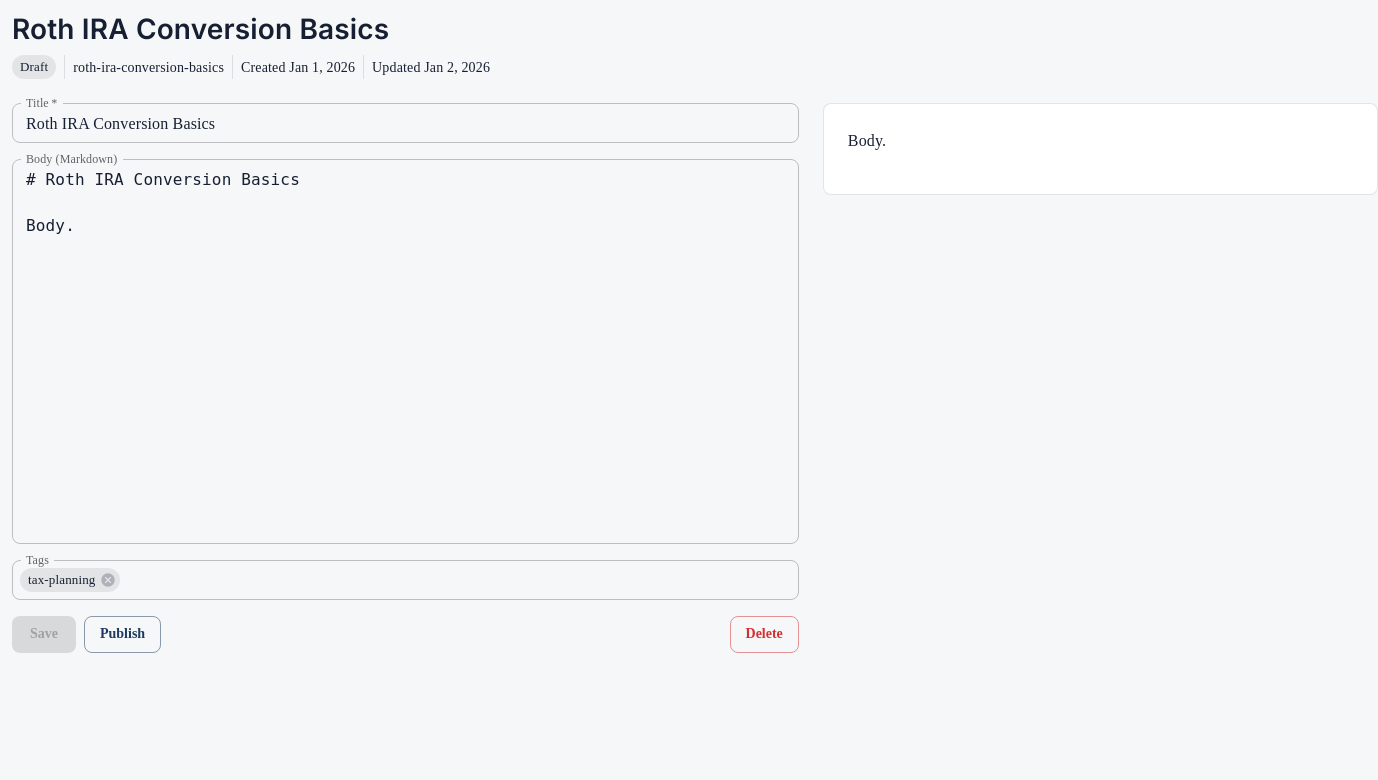
Test case: ContentEditorScreen mutation feedback (global snackbar) › a successful Publish shows a "Published" notice (and not a "Saved" one)
The image size is (1378, 780).
What coordinates should you click on to do the following:
click the button "Publish"
I would click on:
 (123, 634)
Its box is [84,616,161,652].
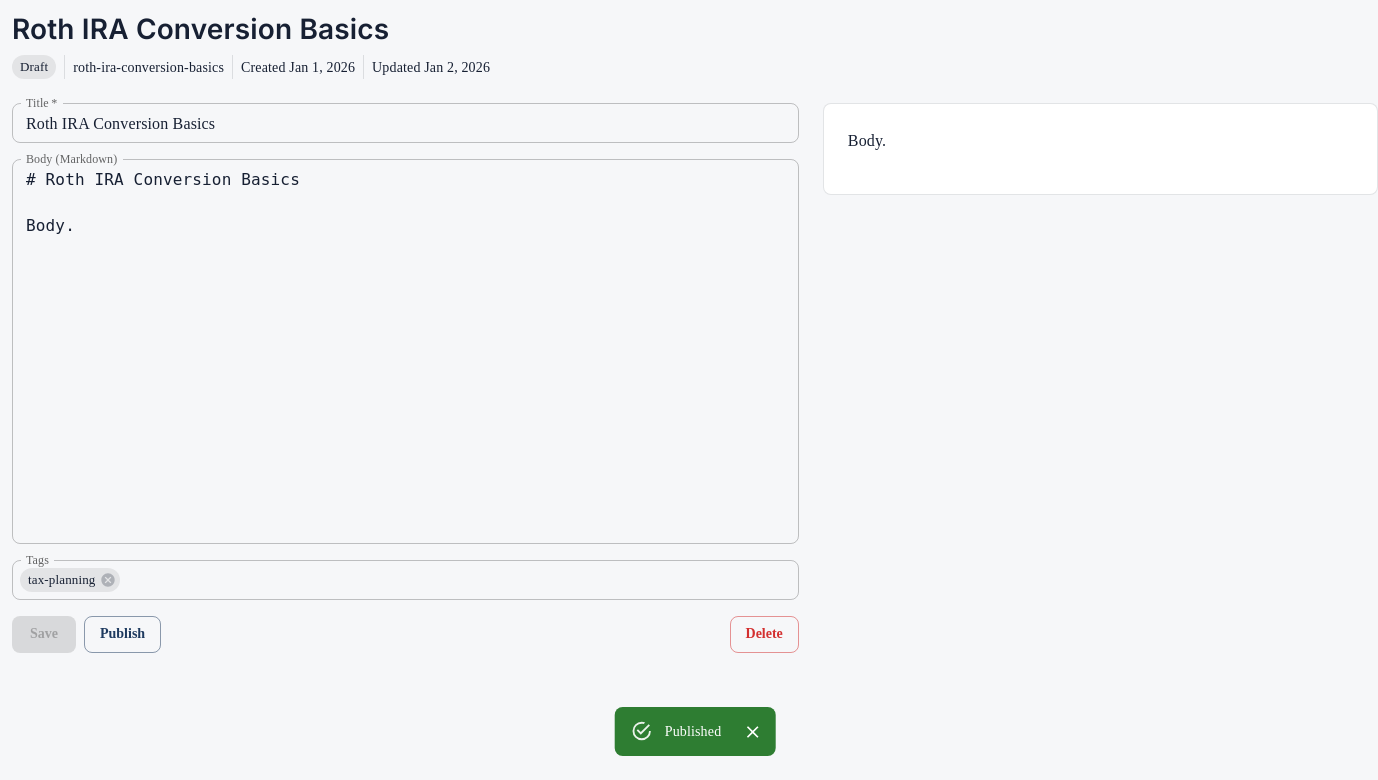
Expected: the message does not show "Saved", [615,707,775,756]
Expected: the message reads "Published", [665,724,721,739]
